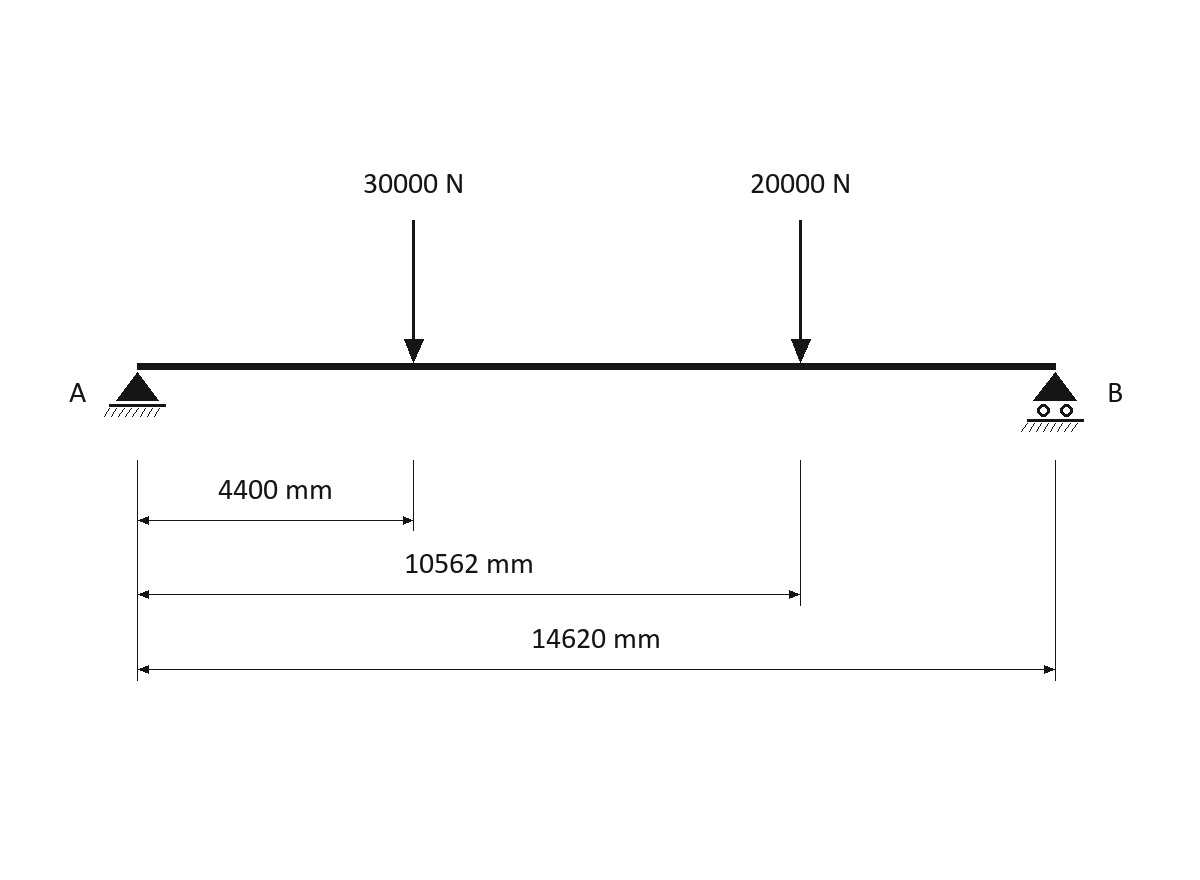pin_support: (104, 372, 166, 417)
point_load: (404, 220, 424, 363), (791, 220, 811, 363)
roller_support: (1021, 372, 1084, 432)
